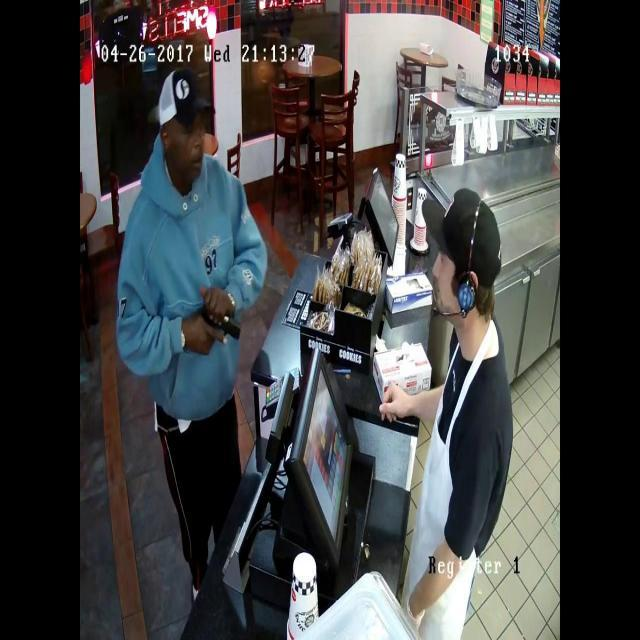weapon: (186, 296, 244, 352)
